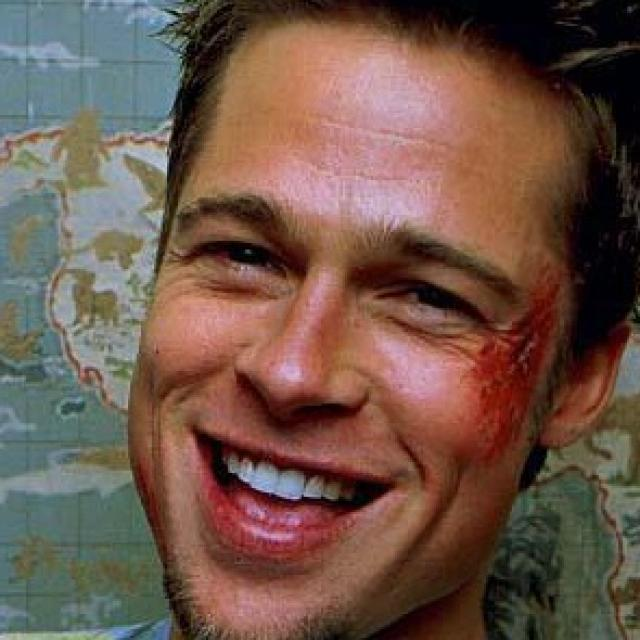Normal: (122, 20, 579, 638)
